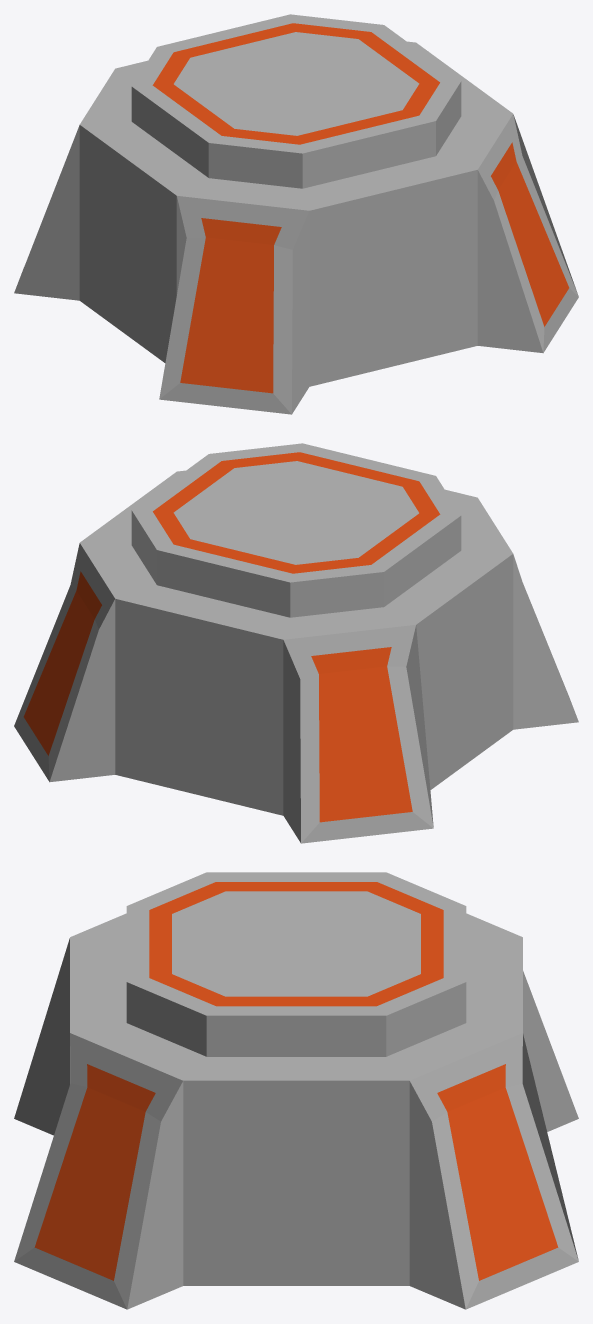
File: Wizzard Tower.fbx
The picture shows the model from 3 angles, top to bottom: view 1: azimuth 30°, elevation 25°; view 2: azimuth 150°, elevation 25°; view 3: azimuth 270°, elevation 25°; orthographic projection. The views are drawn at different scales.
Parts seen in each view (by area): view 1: Torre Wizzard.023; view 2: Torre Wizzard.023; view 3: Torre Wizzard.023.
Boxes of the visible parts, bbox=[...] form: Torre Wizzard.023: bbox=[14, 14, 578, 414]; Torre Wizzard.023: bbox=[14, 443, 578, 843]; Torre Wizzard.023: bbox=[14, 872, 578, 1309].
Size of the model in its own units: 18.71 by 9 by 18.71.
